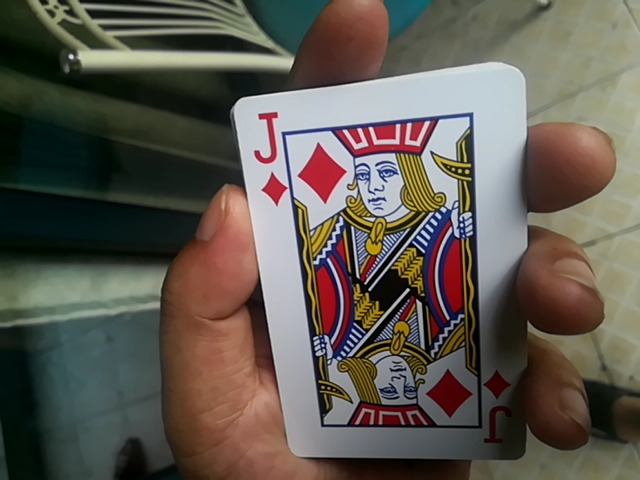fk j: (237, 54, 531, 468)
